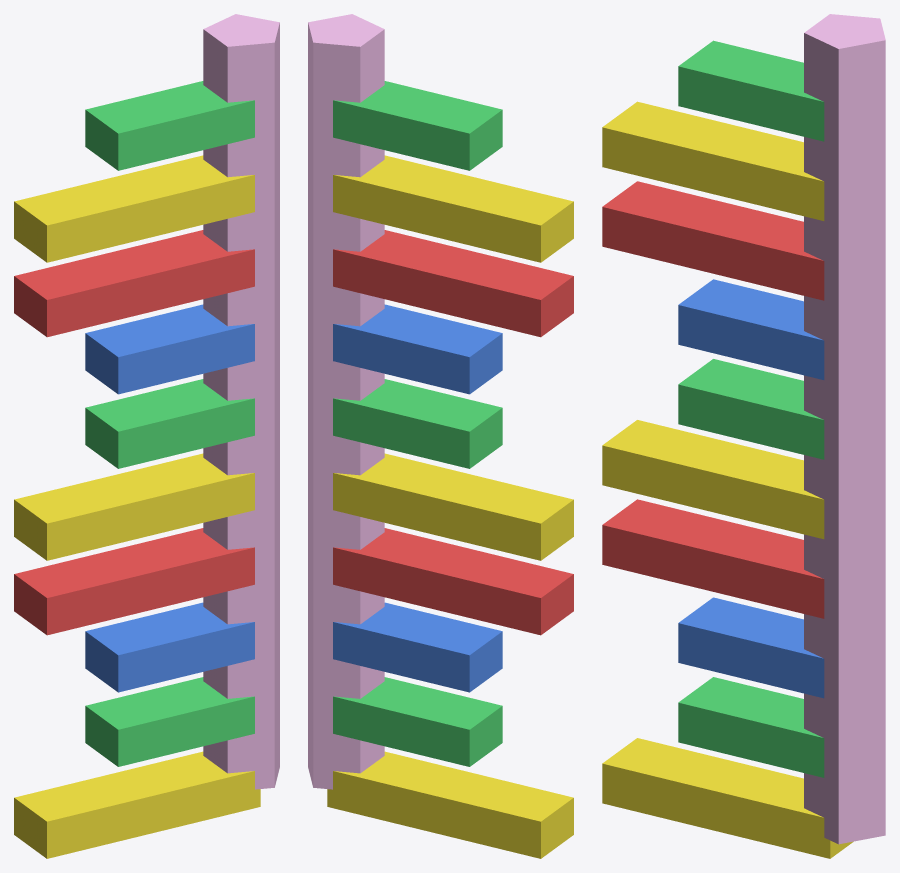
File: Ext_R_Straight_1.fbx
3 views of the same model, side by side, from view 1: azimuth 30°, elevation 25°; view 2: azimuth 150°, elevation 25°; view 3: azimuth 330°, elevation 25° (orthographic). The views are drawn at different scales.
Parts seen in each view (by area): view 1: Ext_R_Straight_1; view 2: Ext_R_Straight_1; view 3: Ext_R_Straight_1.
Part boxes in pixels (left/top/right/bottom): Ext_R_Straight_1: left=14, top=14, right=279, bottom=858; Ext_R_Straight_1: left=308, top=14, right=573, bottom=858; Ext_R_Straight_1: left=602, top=14, right=885, bottom=858.
Bounding box in the file's own units: 0.035 × 0.1025 × 0.00951.
